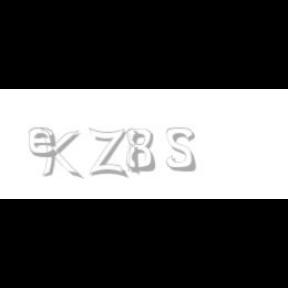8: (126, 128, 156, 172)
K: (40, 128, 80, 180)
S: (166, 128, 198, 172)
Z: (88, 128, 126, 178)
e: (29, 128, 62, 158)
i: (127, 128, 143, 176)
